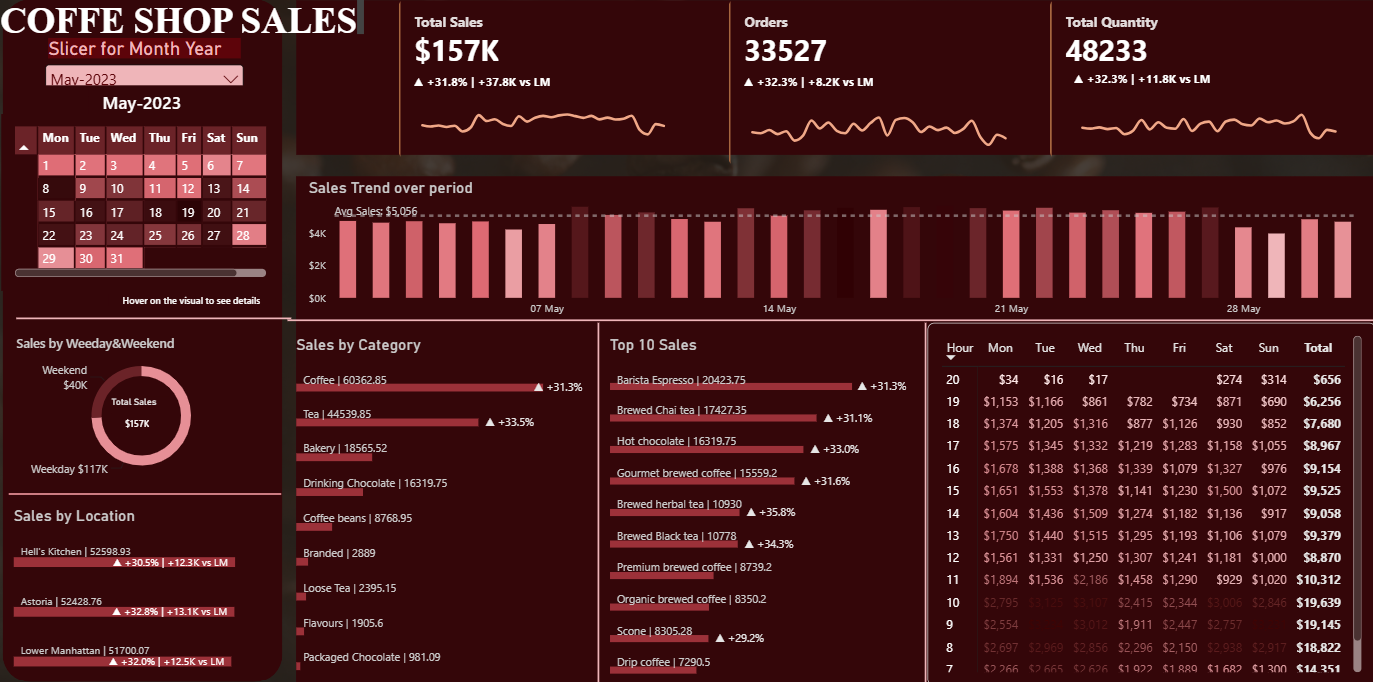

Layout of this report page (visuals, bound fields, positions):
{"tool":"powerbi","page":{"name":"Page 1","canvas":[1600,800],"ordinal":0},"visuals":[{"type":"shape","box":[344.8,1.9,1254.9,179.8],"z":0},{"type":"cardVisual","fields":{"Data":["Transactions.Tip"]},"box":[126.9,342.8,194.8,13.3],"z":0,"group":"g15"},{"type":"shape","box":[2.9,0,325.6,795.1],"z":1000},{"type":"group","id":"g1","title":"Group 5","box":[1.5,133.7,324.1,205.3],"z":1000,"group":"g15"},{"type":"textbox","box":[0,0,423,45.1],"z":2000},{"type":"cardVisual","fields":{"Data":["Transactions.Total Sales"]},"box":[464,0,376.8,187],"z":3000,"group":"g4"},{"type":"cardVisual","fields":{"Data":["Transactions.Orders"]},"box":[847.8,0,355.1,194.2],"z":3000,"group":"g7"},{"type":"cardVisual","fields":{"Data":["Date Table.Total Quantity"]},"box":[1220.3,0,378.3,187],"z":3000,"group":"g10"},{"type":"slicer","fields":{"Values":["Date Table.Month Year"]},"box":[48,45.1,239.8,55.2],"z":3000},{"type":"group","id":"g2","title":"Group 1","box":[464,0,376.8,187],"z":4000},{"type":"group","id":"g3","title":"Group 1","box":[847.8,0,355.1,194.2],"z":5000},{"type":"lineChart","fields":{"Category":["Date Table.Date.Variation.Date Hierarchy.Year","Date Table.Date.Variation.Date Hierarchy.Quarter","Date Table.Date.Variation.Date Hierarchy.Month","Date Table.Date.Variation.Date Hierarchy.Day"],"Y":["Date Table.Total Quantity"]},"box":[1231.9,67.7,346.4,113.8],"z":5000,"group":"g10"},{"type":"lineChart","fields":{"Category":["Date Table.Date.Variation.Date Hierarchy.Year","Date Table.Date.Variation.Date Hierarchy.Quarter","Date Table.Date.Variation.Date Hierarchy.Month","Date Table.Date.Variation.Date Hierarchy.Day"],"Y":["Transactions.Orders"]},"box":[849.5,72.2,346.4,114.1],"z":5000,"group":"g7"},{"type":"lineChart","fields":{"Category":["Date Table.Date.Variation.Date Hierarchy.Year","Date Table.Date.Variation.Date Hierarchy.Quarter","Date Table.Date.Variation.Date Hierarchy.Month","Date Table.Date.Variation.Date Hierarchy.Day"],"Y":["Transactions.Total Sales"]},"box":[465.4,72.5,332.8,114.3],"z":5000,"group":"g4"},{"type":"group","id":"g4","title":"Group 4","box":[464,0,376.8,187],"z":5002,"group":"g6"},{"type":"group","id":"g5","title":"Group 2","box":[464,0,376.8,187],"z":5002,"group":"g2"},{"type":"group","id":"g6","title":"Group 3","box":[464,0,376.8,187],"z":5002,"group":"g5"},{"type":"group","id":"g7","title":"Group 4","box":[847.8,0,355.1,194.2],"z":5002,"group":"g9"},{"type":"group","id":"g8","title":"Group 2","box":[847.8,0,355.1,194.2],"z":5002,"group":"g3"},{"type":"group","id":"g9","title":"Group 3","box":[847.8,0,355.1,194.2],"z":5002,"group":"g8"},{"type":"group","id":"g10","title":"Group 4","box":[1220.3,0,378.3,187],"z":5002,"group":"g11"},{"type":"group","id":"g11","title":"Group 3","box":[1220.3,0,378.3,187],"z":5002,"group":"g12"},{"type":"group","id":"g12","title":"Group 2","box":[1220.3,0,378.3,187],"z":5002,"group":"g13"},{"type":"group","id":"g13","title":"Group 1","box":[1220.3,0,378.3,187],"z":6000},{"type":"shape","box":[344.8,205.7,1254.9,591.3],"z":7000},{"type":"cardVisual","fields":{"Data":["Min(Date Table.Month Year)"]},"box":[103.2,106.1,130.8,27.6],"z":8000},{"type":"pivotTable","fields":{"Columns":["Date Table.Day Name"],"Rows":["Date Table.Week Nbr"],"Values":["Min(Date Table.Day)"]},"box":[1.5,133.7,324.1,205.3],"z":8000,"group":"g1"},{"type":"group","id":"g14","title":"Group 6","box":[1.5,133.7,324.1,222.4],"z":9000},{"type":"shape","box":[687.7,376.3,16.7,424.5],"z":10000},{"type":"shape","box":[10.2,566.9,316.9,17.4],"z":11000},{"type":"group","id":"g15","title":"Group 7","box":[1.5,133.7,324.1,222.4],"z":11003,"group":"g14"},{"type":"donutChart","title":"Sales by Weeday&Weekend","fields":{"Category":["Date Table.Wekend"],"Y":["Transactions.Total Sales"]},"box":[2.9,375,322.7,200.6],"z":12000},{"type":"cardVisual","title":"Total Sales","fields":{"Data":["Transactions.Total Sales"]},"box":[129.4,462.2,66.9,48],"z":13000},{"type":"clusteredBarChart","title":"Sales by Location","fields":{"Category":["Transactions.store_location"],"Y":["Date Table.Place holder","Transactions.Total Sales"]},"box":[0,575.6,325.6,220.9],"z":14000},{"type":"columnChart","title":"Sales Trend over period","fields":{"Category":["Transactions.transaction_date"],"Y":["Transactions.Total Sales"]},"box":[343.5,194.2,1255.8,193.3],"z":15000},{"type":"group","id":"g16","title":"Group 8","box":[328.1,376.3,364.8,420.6],"z":16000},{"type":"shape","box":[18.7,366.1,319.8,10.2],"z":17000},{"type":"clusteredBarChart","title":"Sales by Category","fields":{"Category":["Transactions.product_category"],"Y":["Date Table.Place holder","Transactions.Total Sales"]},"box":[328.1,376.3,364.8,420.6],"z":17000,"group":"g16"},{"type":"clusteredBarChart","title":"Top 10 Sales","fields":{"Category":["Transactions.product_type"],"Y":["Date Table.Place holder","Transactions.Total Sales"]},"box":[693.2,376.3,376.5,424.5],"z":17000,"group":"g17"},{"type":"group","id":"g17","title":"Group 8","box":[693.2,376.3,376.3,424.5],"z":18000},{"type":"shape","box":[333.6,363.3,1266,20.4],"z":19000},{"type":"shape","box":[1069.5,376.3,13,424.5],"z":20000},{"type":"pivotTable","fields":{"Columns":["Date Table.Day Name"],"Rows":["Transactions.Hour"],"Values":["Transactions.Total Sales"]},"box":[1078.3,376.7,521.7,423.3],"z":21000}]}

Visuals, with their boxes in screenshot pixels (x1, y1, x2, y2), scaled from the page's 1600x800 canvas onto the 1373x682 screenshot:
shape: detection(296, 2, 1372, 155)
cardVisual - Transactions.Tip: detection(109, 292, 276, 304)
shape: detection(2, 0, 282, 678)
"Group 5" group: detection(1, 114, 279, 289)
textbox: detection(0, 0, 363, 38)
cardVisual - Transactions.Total Sales: detection(398, 0, 722, 159)
cardVisual - Transactions.Orders: detection(728, 0, 1032, 166)
cardVisual - Date Table.Total Quantity: detection(1047, 0, 1372, 159)
slicer - Date Table.Month Year: detection(41, 38, 247, 86)
"Group 1" group: detection(398, 0, 722, 159)
"Group 1" group: detection(728, 0, 1032, 166)
lineChart - Date Table.Date.Variation.Date Hierarchy.Year x Date Table.Date.Variation.Date Hierarchy.Quarter: detection(1057, 58, 1354, 155)
lineChart - Date Table.Date.Variation.Date Hierarchy.Year x Date Table.Date.Variation.Date Hierarchy.Quarter: detection(729, 62, 1026, 159)
lineChart - Date Table.Date.Variation.Date Hierarchy.Year x Date Table.Date.Variation.Date Hierarchy.Quarter: detection(399, 62, 685, 159)
"Group 4" group: detection(398, 0, 722, 159)
"Group 2" group: detection(398, 0, 722, 159)
"Group 3" group: detection(398, 0, 722, 159)
"Group 4" group: detection(728, 0, 1032, 166)
"Group 2" group: detection(728, 0, 1032, 166)
"Group 3" group: detection(728, 0, 1032, 166)
"Group 4" group: detection(1047, 0, 1372, 159)
"Group 3" group: detection(1047, 0, 1372, 159)
"Group 2" group: detection(1047, 0, 1372, 159)
"Group 1" group: detection(1047, 0, 1372, 159)
shape: detection(296, 175, 1372, 679)
cardVisual - Min(Date Table.Month Year): detection(89, 90, 201, 114)
pivotTable - Date Table.Day Name x Date Table.Week Nbr: detection(1, 114, 279, 289)
"Group 6" group: detection(1, 114, 279, 304)
shape: detection(590, 321, 604, 681)
shape: detection(9, 483, 281, 498)
"Group 7" group: detection(1, 114, 279, 304)
"Sales by Weeday&Weekend" donutChart: detection(2, 320, 279, 491)
"Total Sales" cardVisual: detection(111, 394, 168, 435)
"Sales by Location" clusteredBarChart: detection(0, 491, 279, 679)
"Sales Trend over period" columnChart: detection(295, 166, 1372, 330)
"Group 8" group: detection(282, 321, 595, 679)
shape: detection(16, 312, 290, 321)
"Sales by Category" clusteredBarChart: detection(282, 321, 595, 679)
"Top 10 Sales" clusteredBarChart: detection(595, 321, 918, 681)
"Group 8" group: detection(595, 321, 918, 681)
shape: detection(286, 310, 1372, 327)
shape: detection(918, 321, 929, 681)
pivotTable - Date Table.Day Name x Transactions.Hour: detection(925, 321, 1372, 681)
